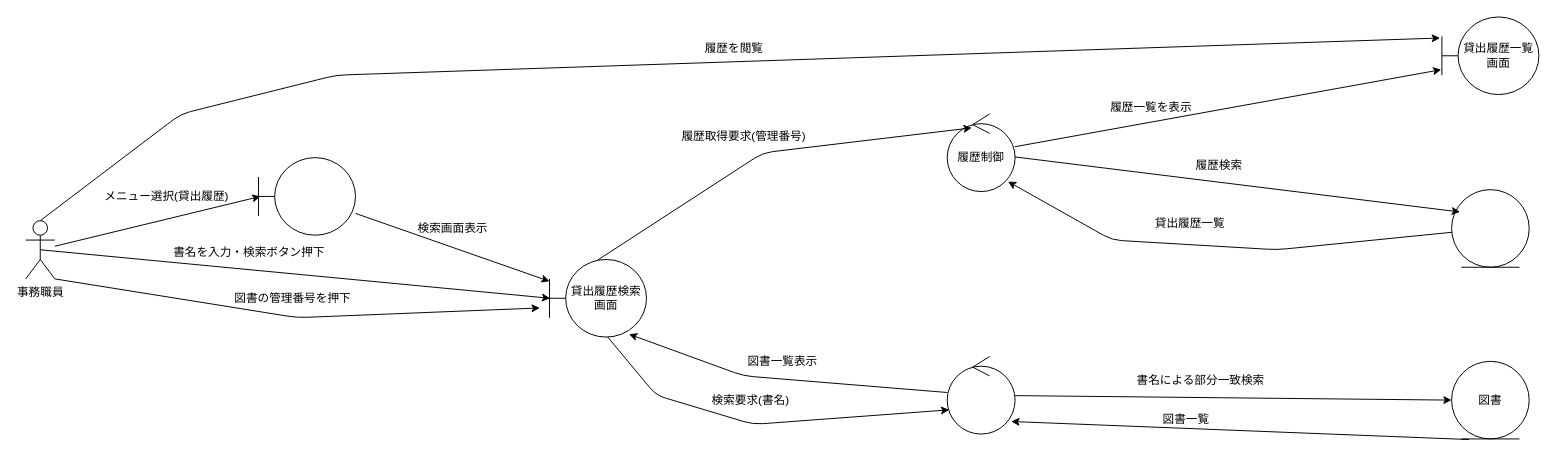
Image size: 1556x465. Some labels were removed from this diagram. Here are the shapes that lost their labels. From the top down, the centre of each, then its label:
At pixel 307 196: "メニュー画面".
At pixel 1490 228: "貸出履歴".
At pixel 980 395: "検索制御".
